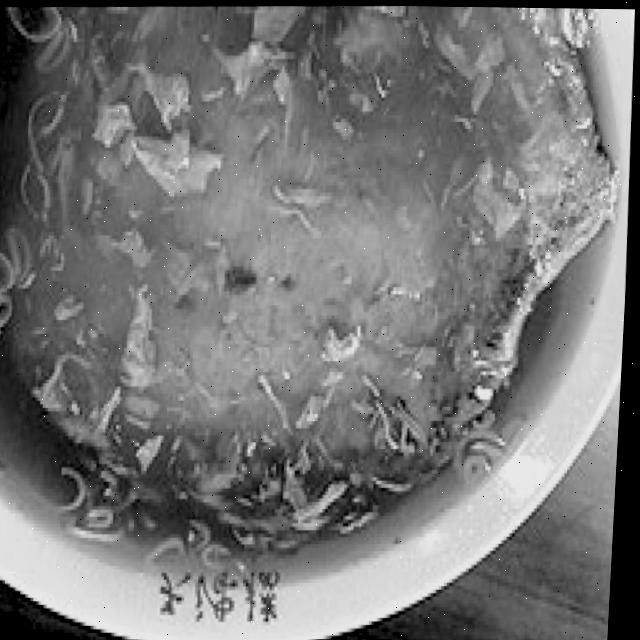面条主食: (0, 0, 620, 600)
